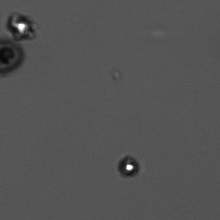Dead Cell: (1, 41, 26, 75)
Living Cell: (5, 10, 38, 37), (115, 153, 142, 181)
